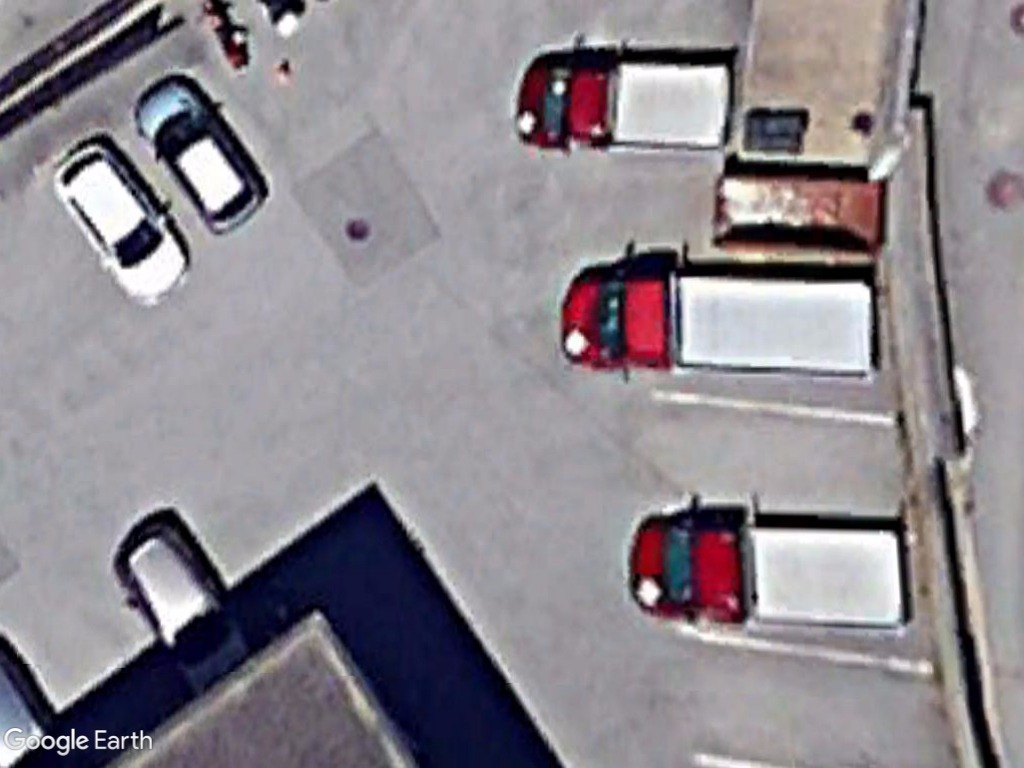car: (45, 138, 195, 309), (134, 77, 275, 237)
truck: (559, 265, 885, 386), (626, 513, 915, 637), (513, 48, 738, 158)
